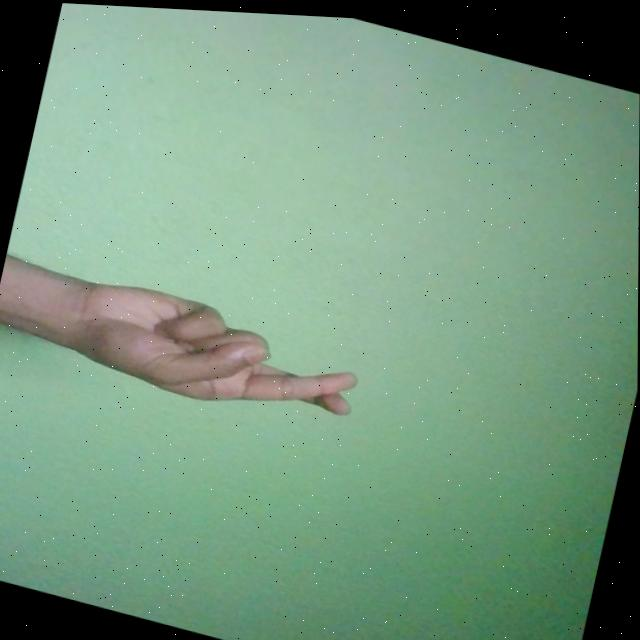Good Luck: (54, 266, 367, 436)
